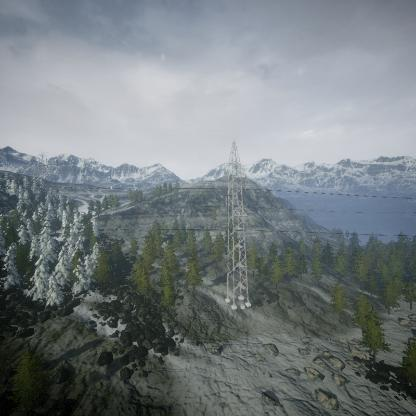tower: (221, 139, 252, 308)
